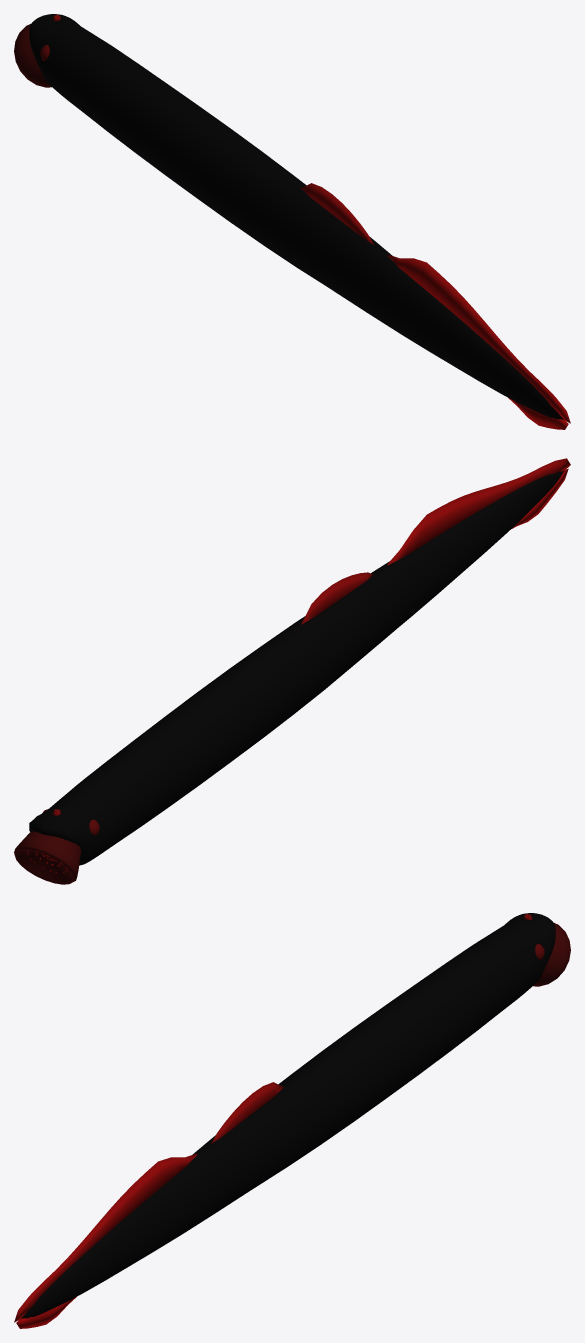
Rendered from lamprey_game.glb.
3 views of the same model, one above another, from view 1: azimuth 30°, elevation 25°; view 2: azimuth 150°, elevation 25°; view 3: azimuth 330°, elevation 25° (orthographic).
Parts seen in each view (by area): view 1: lamprey_game; view 2: lamprey_game; view 3: lamprey_game.
Boxes of the visible parts, box(x1,y1,x2,y2) form: lamprey_game: box(14, 14, 570, 429); lamprey_game: box(14, 458, 570, 884); lamprey_game: box(14, 913, 570, 1328).
Size of the model in its own units: 0.0451 by 0.0693 by 0.6998.
